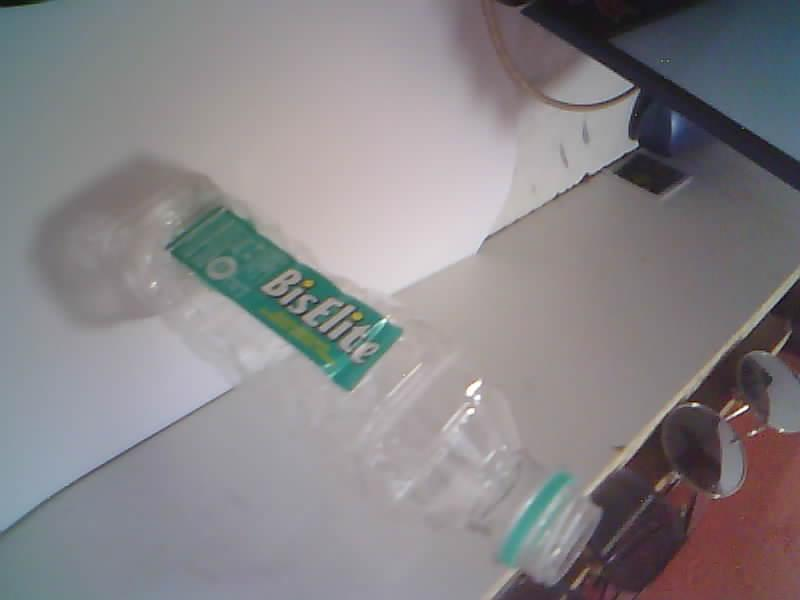non-biodegradable: (120, 188, 600, 583)
